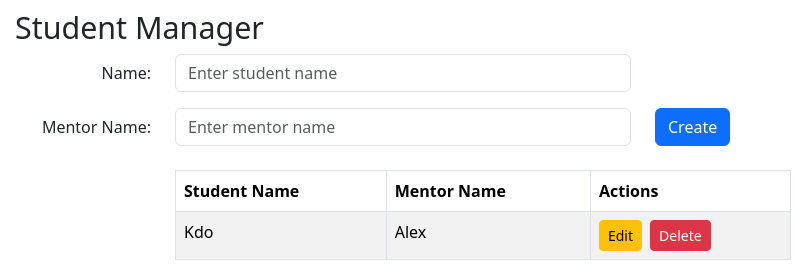
it: StudentManager Component › delete a student
Expected: the text "Kdo" is shown, [176, 211, 386, 259]
Click the button "Delete" at (680, 235), box [650, 220, 711, 250]
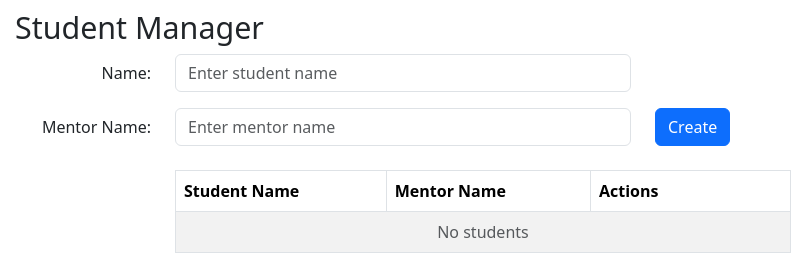
Result: the text "Kdo" is gone
